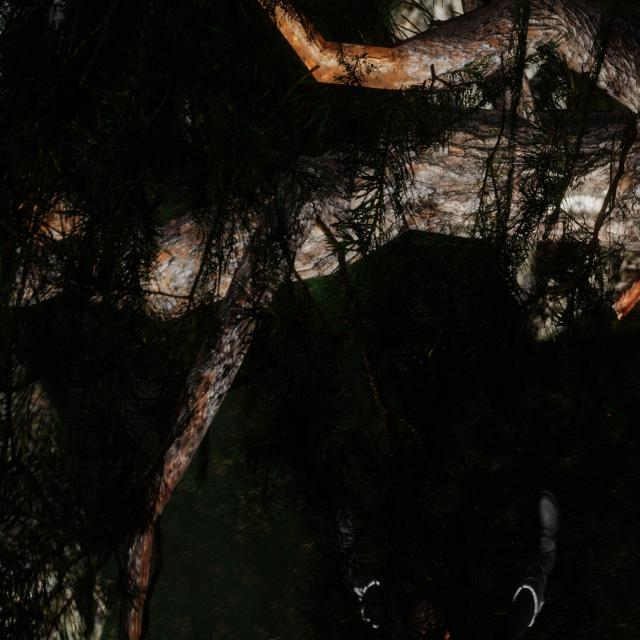Human: (322, 466, 562, 636)
